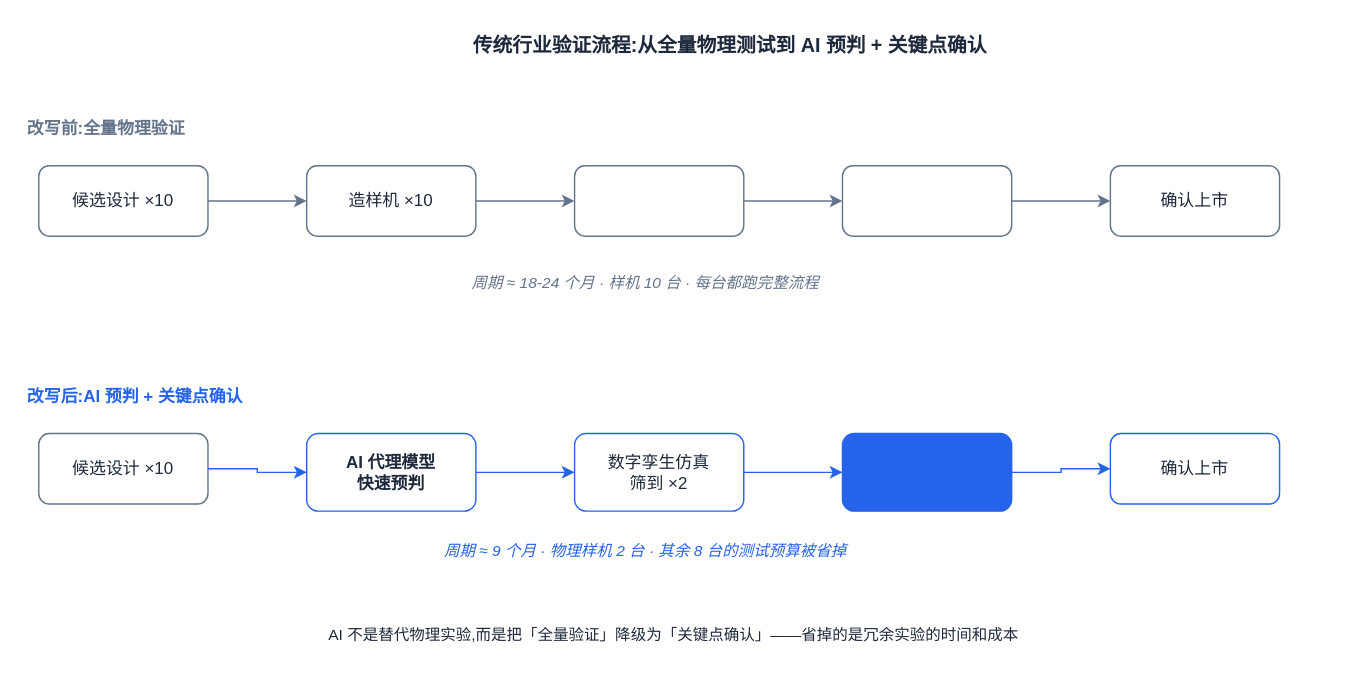
The diagram is 1359 pixels wide and 689 high, and some of its shapes have lost their labels. The box of each missing label's shape, as (x1, y1, x2, y2) in pixels:
仅关键点 物理验证 ×2: (841, 432, 1012, 511)
全量耐久测试: (573, 164, 744, 236)
长周期老化: (841, 164, 1012, 236)
